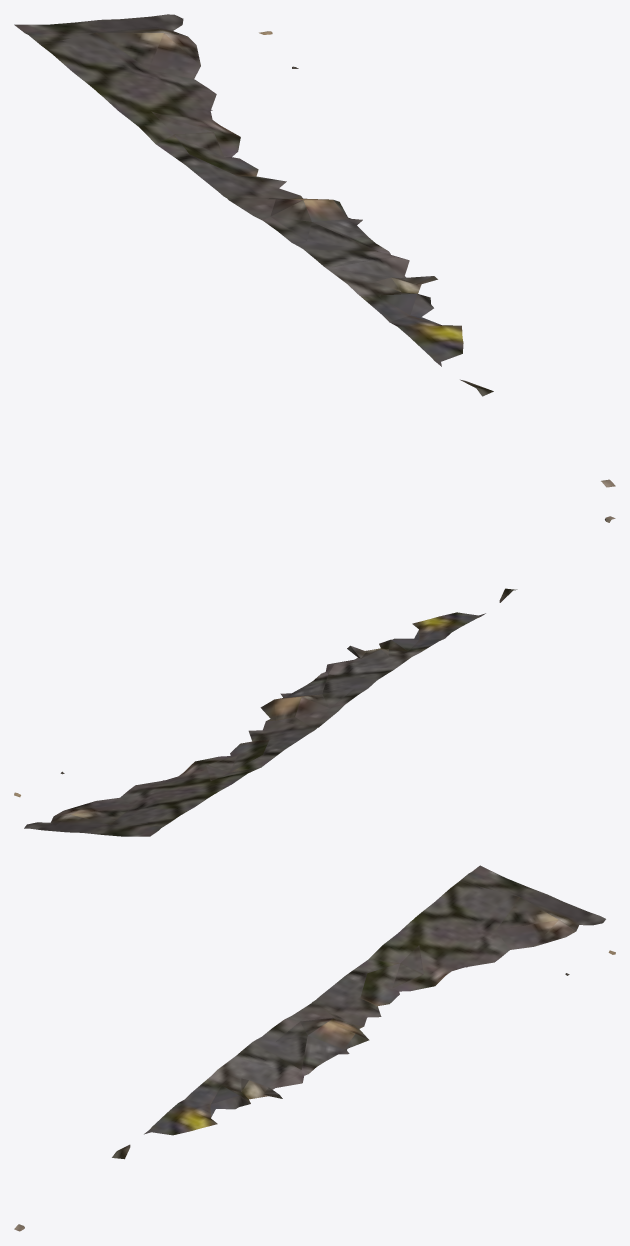
3 renders of one model, top to bottom at view 1: azimuth 30°, elevation 25°; view 2: azimuth 150°, elevation 25°; view 3: azimuth 330°, elevation 25°, orthographic. The views are drawn at different scales.
Bounding box in the file's own units: 0.348 × 0.0451 × 1.66.
Materials: 1 (1 with a texture image).
